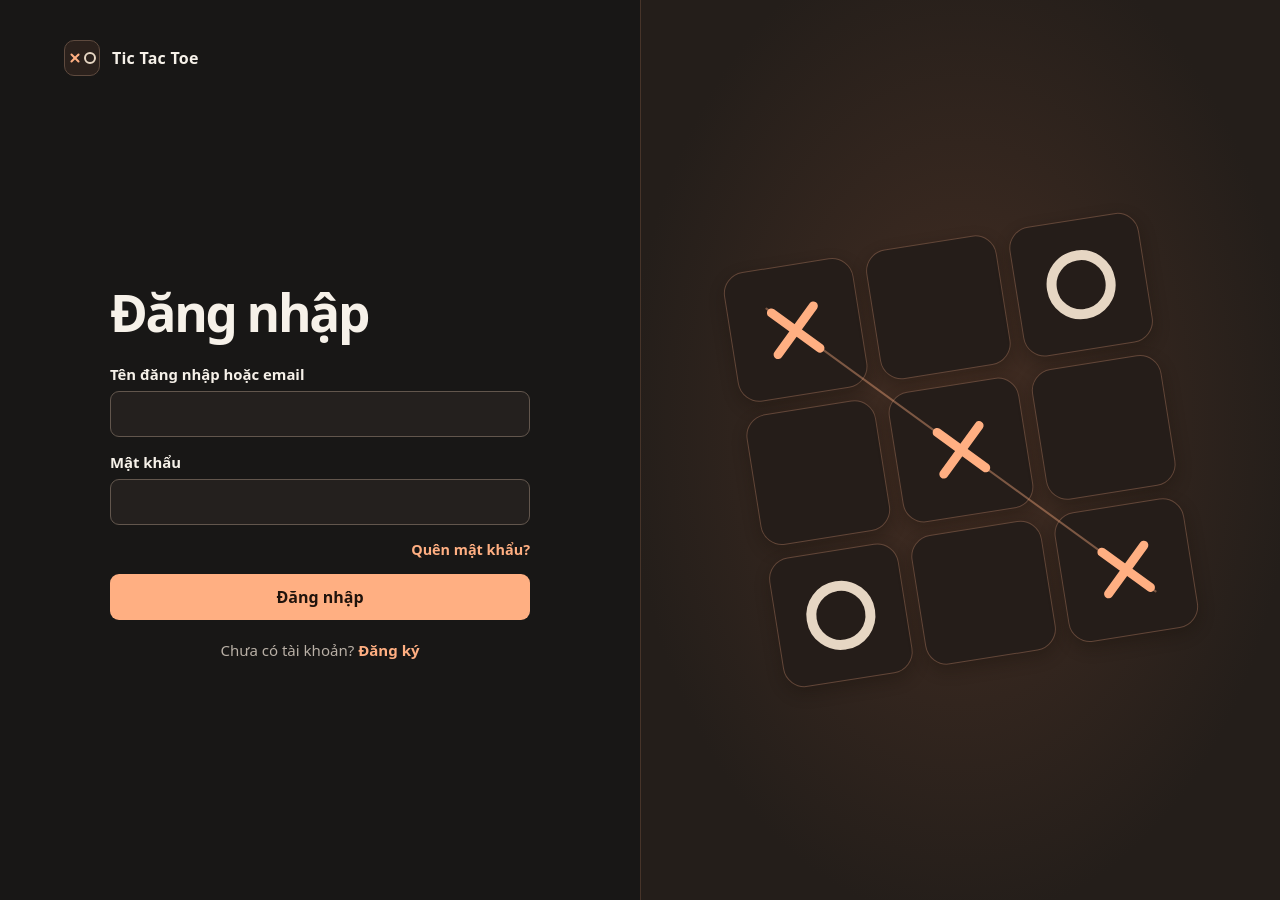
Test: Đăng ký tài khoản › hiển thị lỗi trùng username tại đúng ô
Click the button "Đăng ký": (389, 650) x1=358 y1=640 x2=420 y2=660
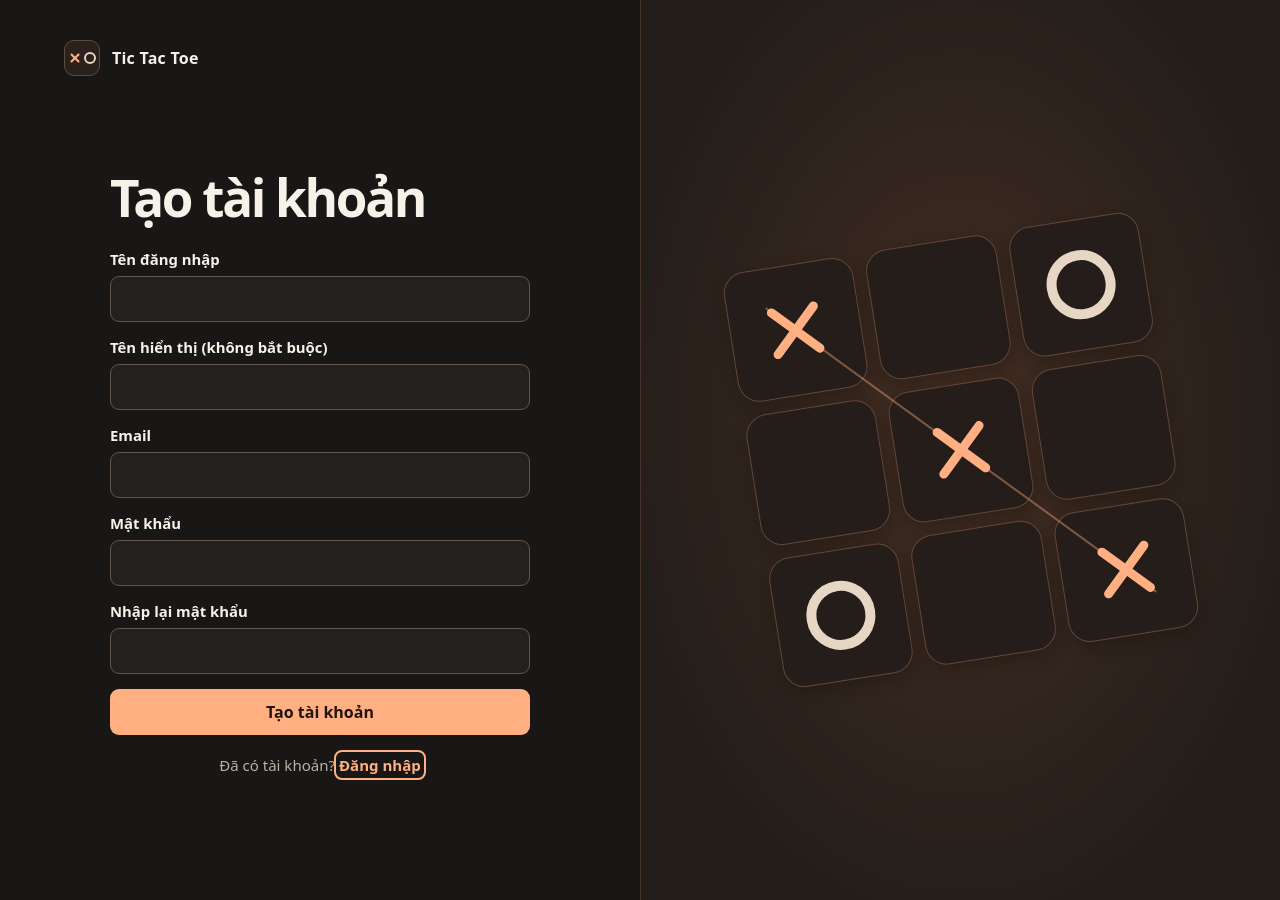
In the field labelled "Tên đăng nhập": (320, 299) x1=110 y1=276 x2=530 y2=322, type "player_one"
In the field labelled "Tên hiển thị (không bắt buộc)": (320, 387) x1=110 y1=364 x2=530 y2=410, type "Player One"
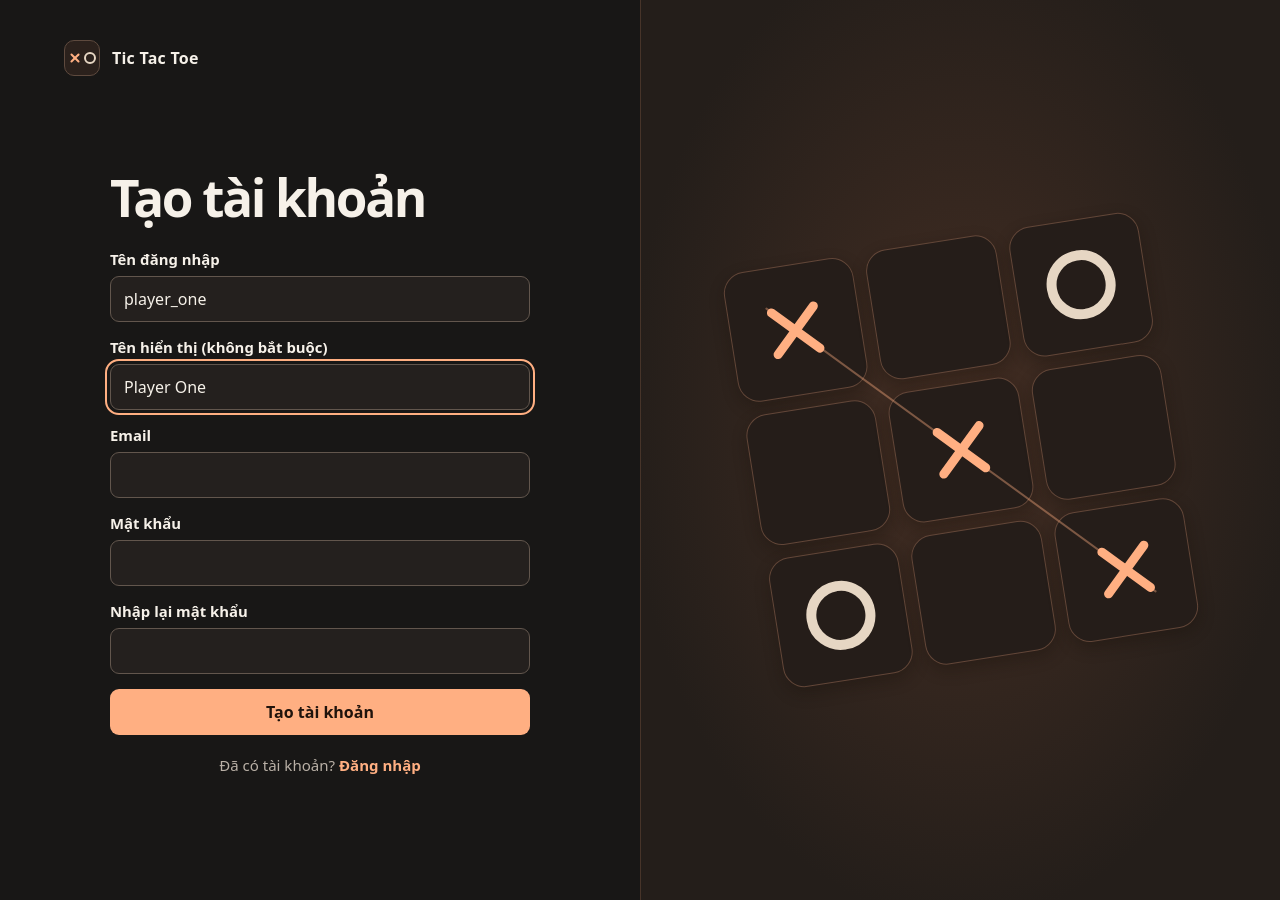
In the field labelled "Email": (320, 475) x1=110 y1=452 x2=530 y2=498, type "player@example.test"
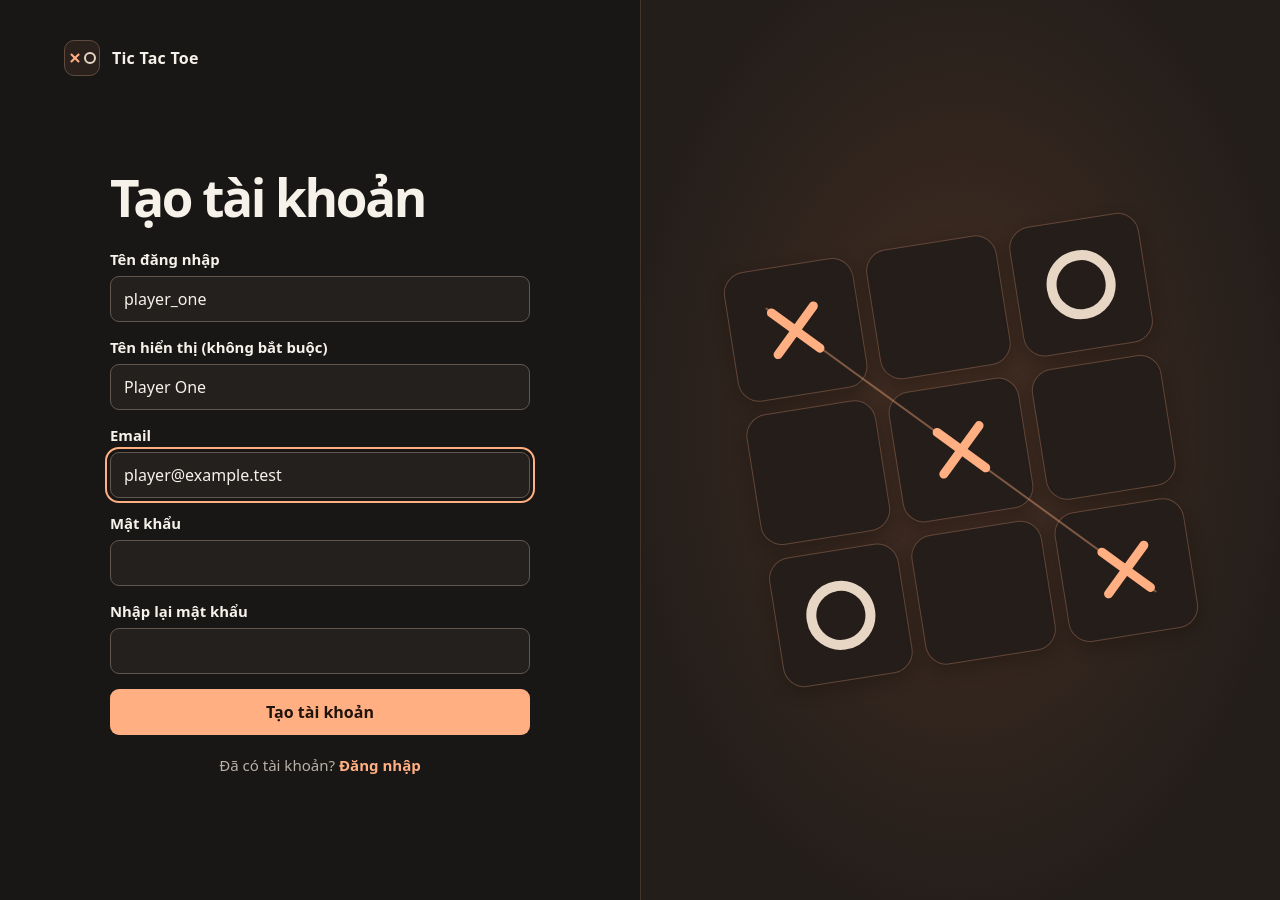
In the password field labelled "Mật khẩu": (320, 563) x1=110 y1=540 x2=530 y2=586, type "password123"
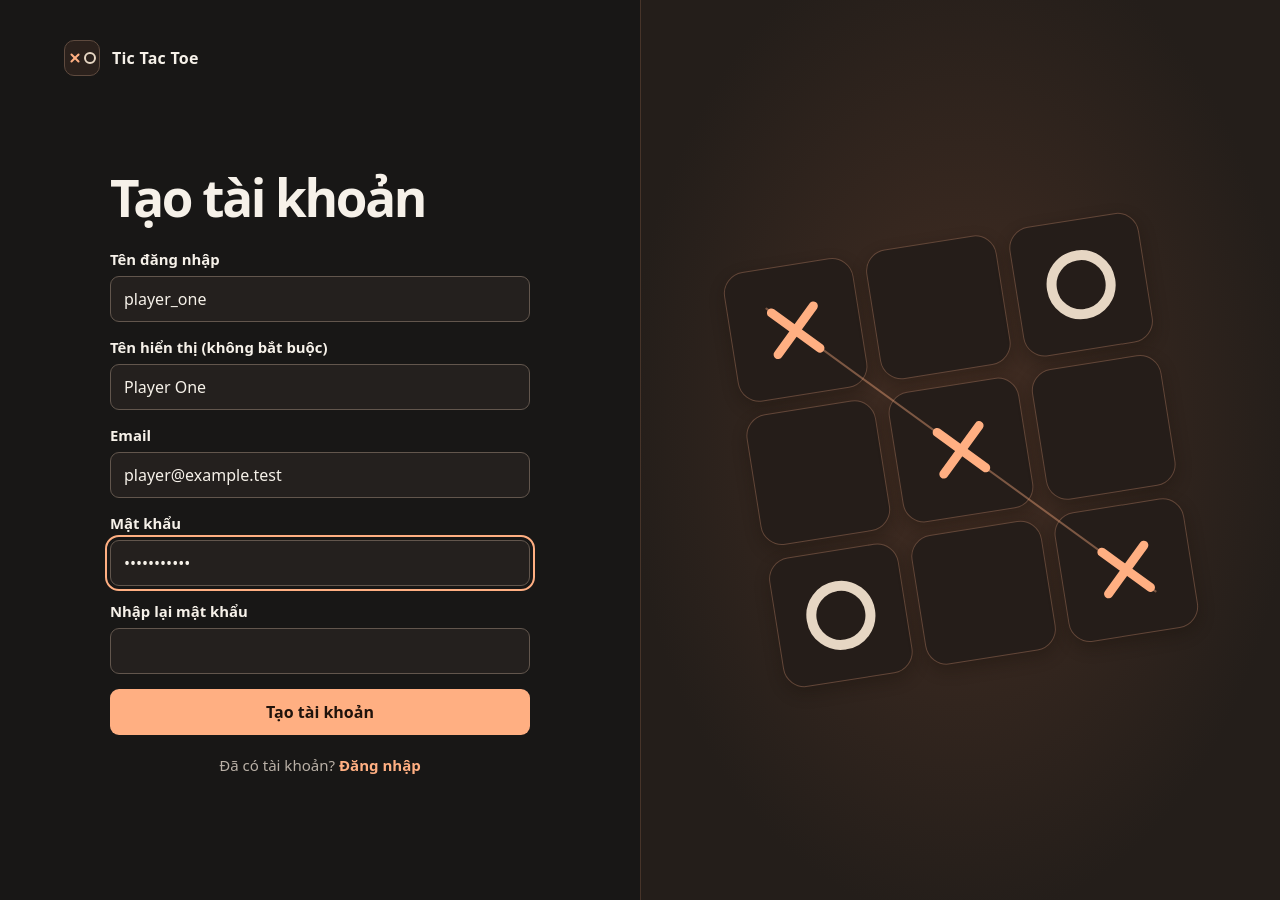
In the password field labelled "Nhập lại mật khẩu": (320, 651) x1=110 y1=628 x2=530 y2=674, type "password123"
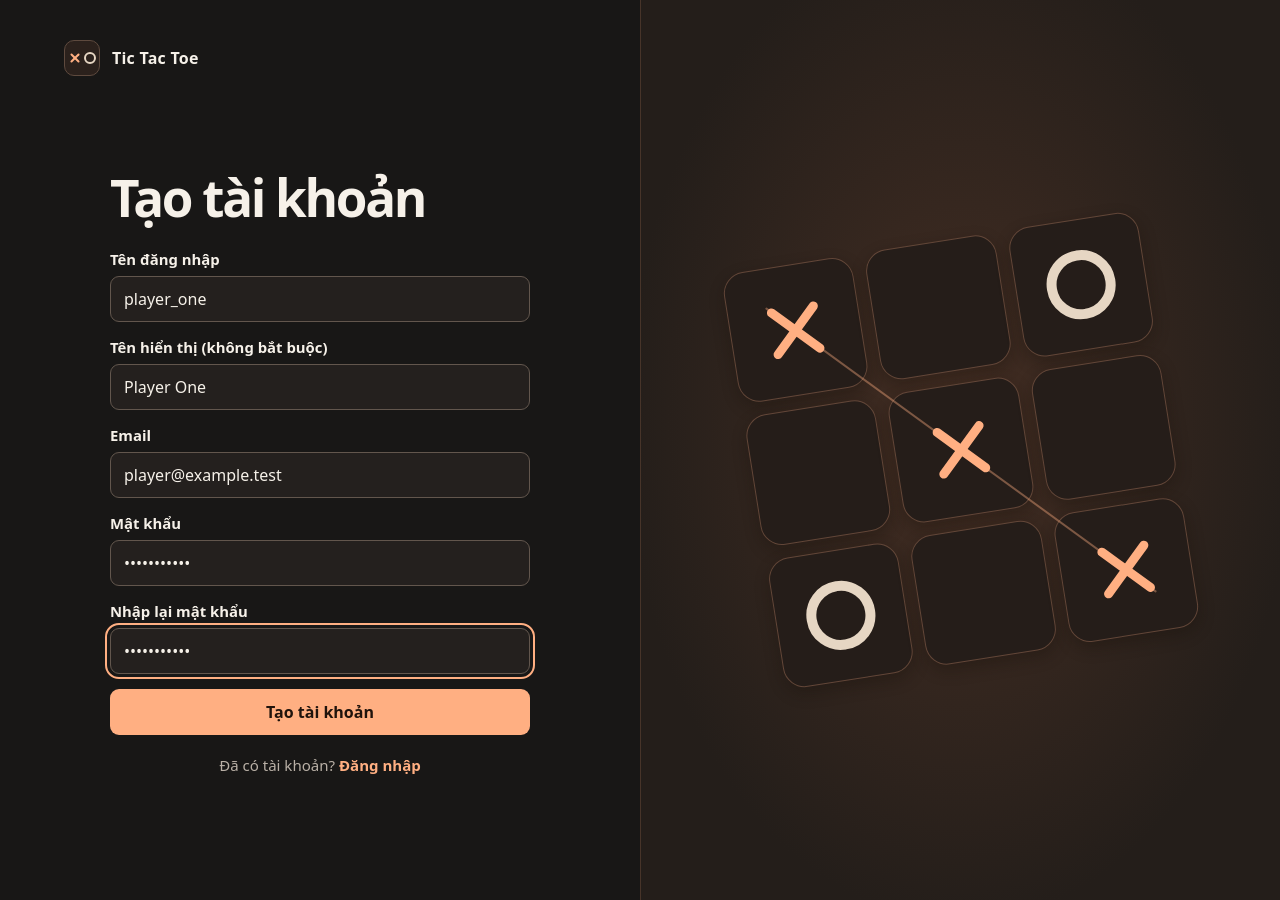
Click the button "Tạo tài khoản": (320, 712) x1=110 y1=689 x2=530 y2=735
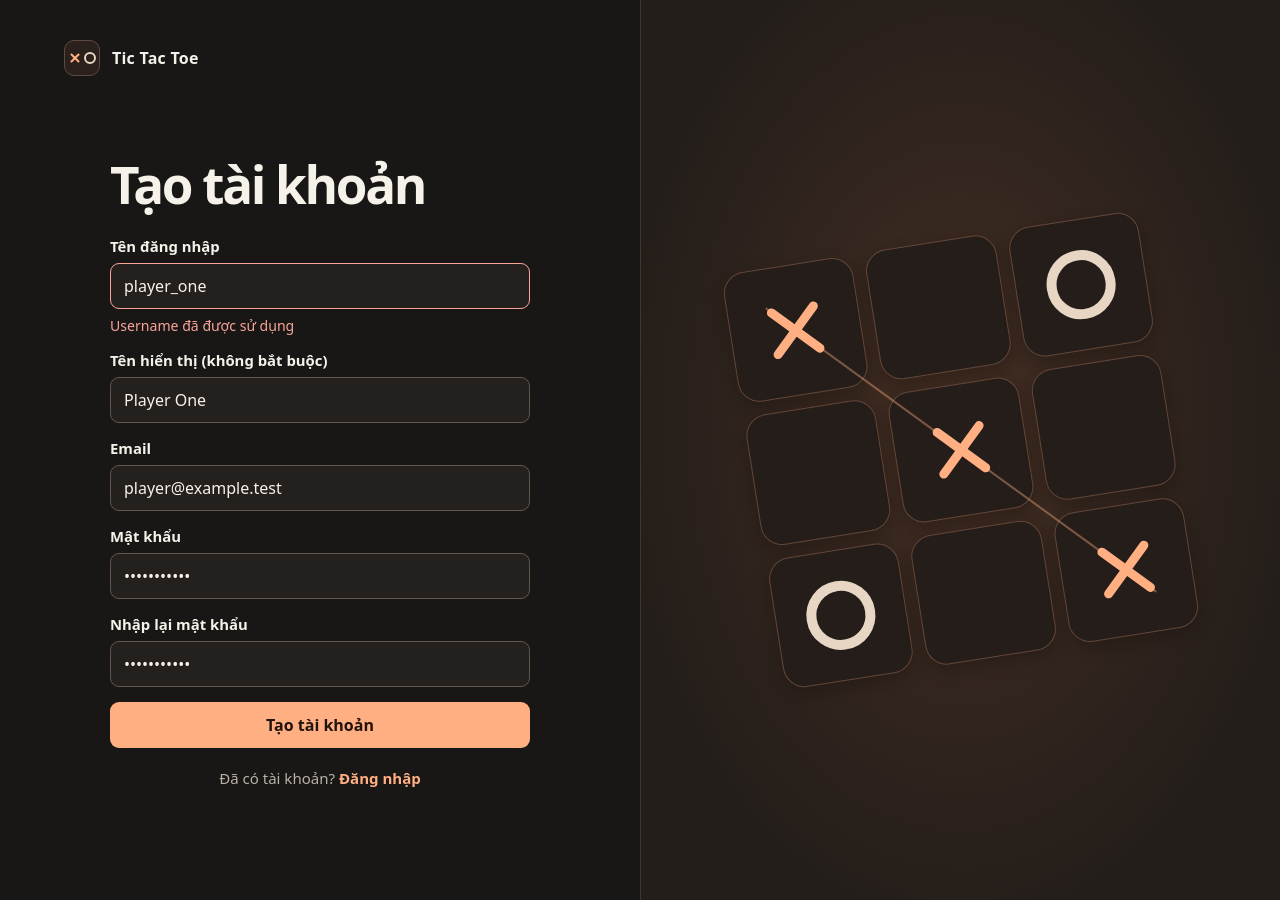
expect the text "Username đã được sử dụng" is shown: met, box x1=110 y1=316 x2=294 y2=335
